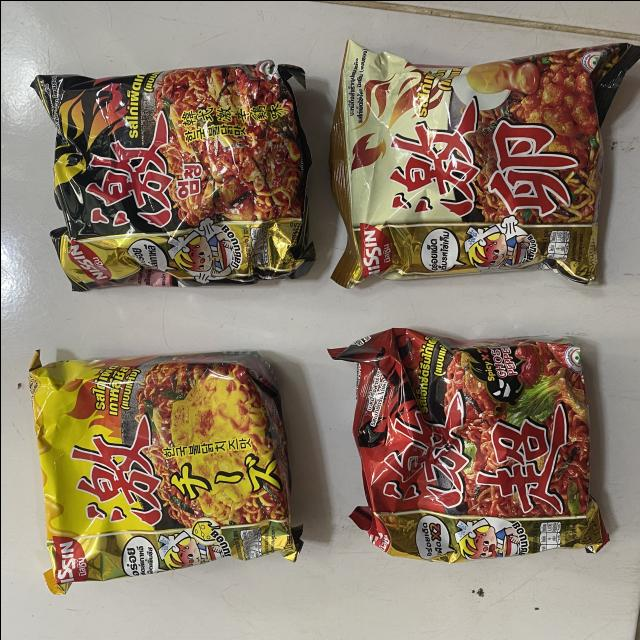plastik: (329, 39, 640, 287), (28, 350, 300, 592), (31, 59, 314, 290), (334, 327, 604, 561)
